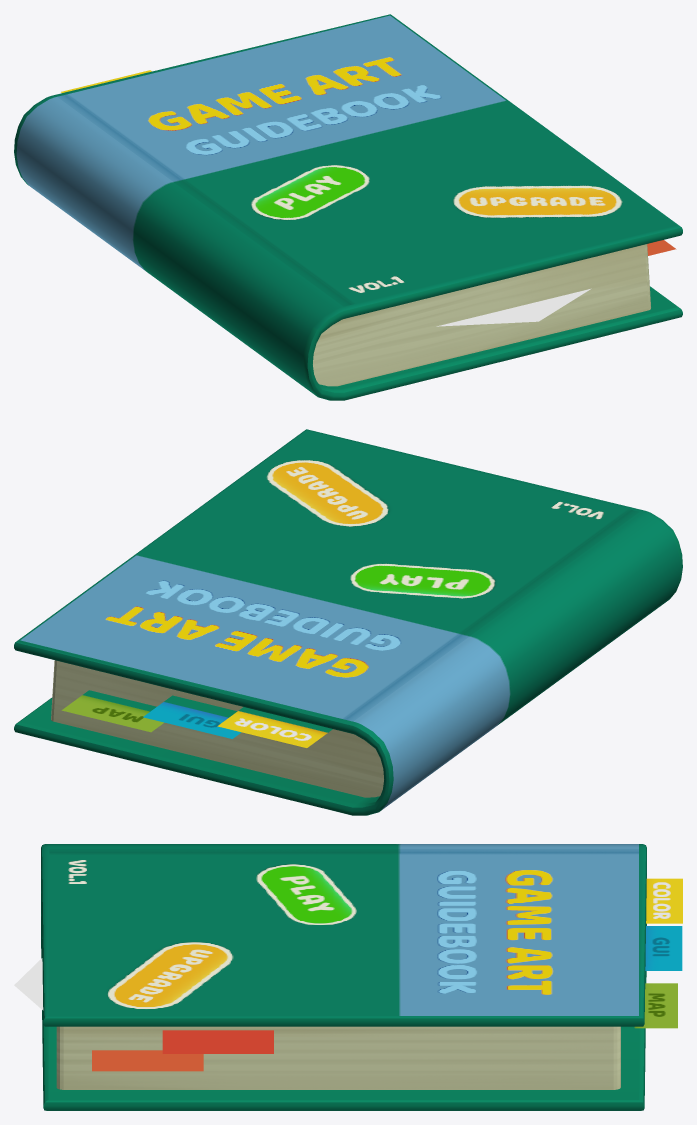
File: book3d.glb
3 renders of one model, top to bottom at view 1: azimuth 30°, elevation 25°; view 2: azimuth 150°, elevation 25°; view 3: azimuth 270°, elevation 25°, orthographic. The views are drawn at different scales.
Visible parts, largest first — view 1: Cube, Cube.001, Plane.003; view 2: Cube, Cube.001, Plane.002; view 3: Cube, Cube.001, Plane.002, Plane.001, Plane, Plane.003.
Boxes of the visible parts, x1,y1,x2,y2 form: Cube: (14, 14, 682, 400); Cube.001: (313, 244, 650, 386); Plane.003: (436, 288, 591, 326); Cube: (14, 429, 682, 815); Cube.001: (51, 660, 383, 797); Plane.002: (61, 690, 332, 747); Cube: (41, 844, 646, 1110); Cube.001: (56, 1026, 620, 1089); Plane.002: (621, 878, 682, 1028); Plane.001: (162, 1030, 273, 1053); Plane: (92, 1050, 203, 1071); Plane.003: (14, 958, 43, 1010).
Size of the model in its own units: 8.33 by 1.84 by 11.79.
Materials: 6 (3 with a texture image).
